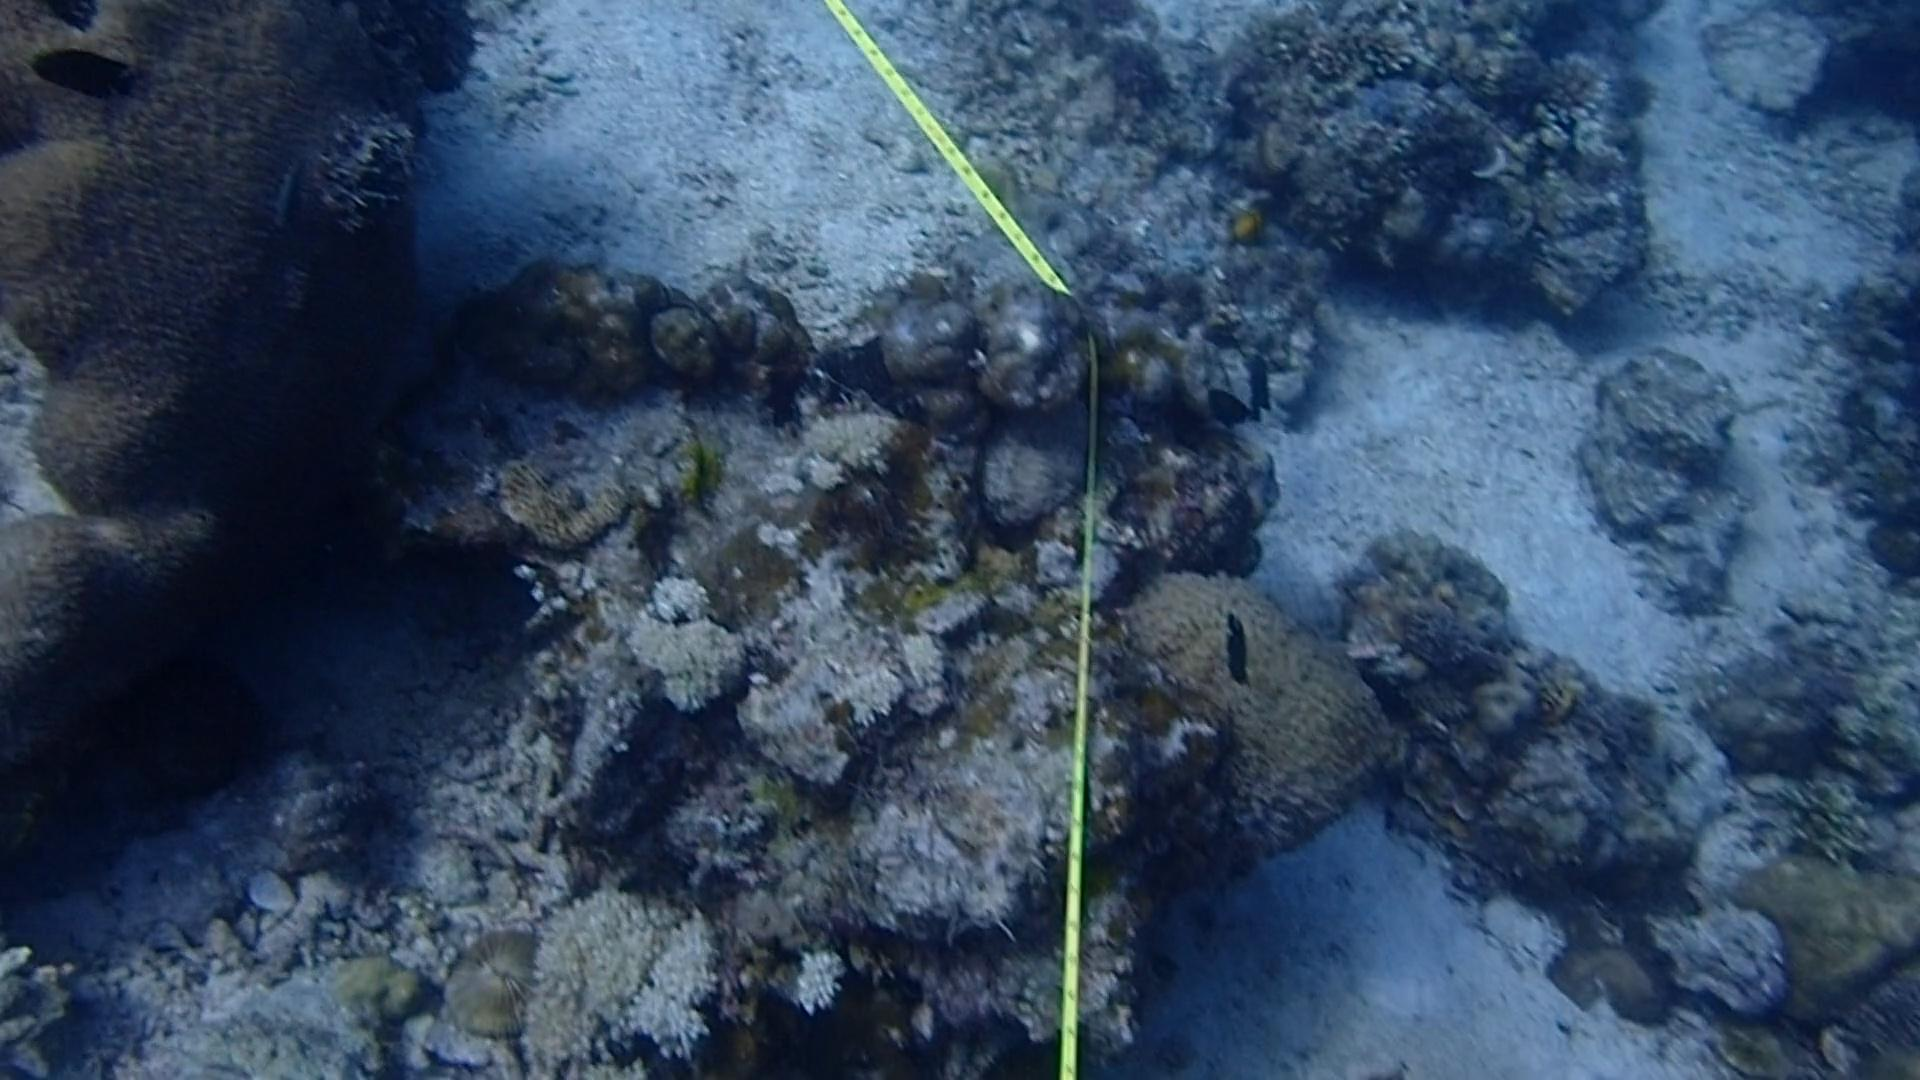Dark Fish: (16, 36, 154, 116), (1348, 653, 1439, 736), (1218, 605, 1270, 692), (1200, 380, 1263, 450), (1233, 342, 1280, 429)
